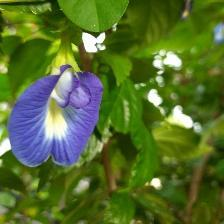shankupushpam: (6, 62, 107, 170)
